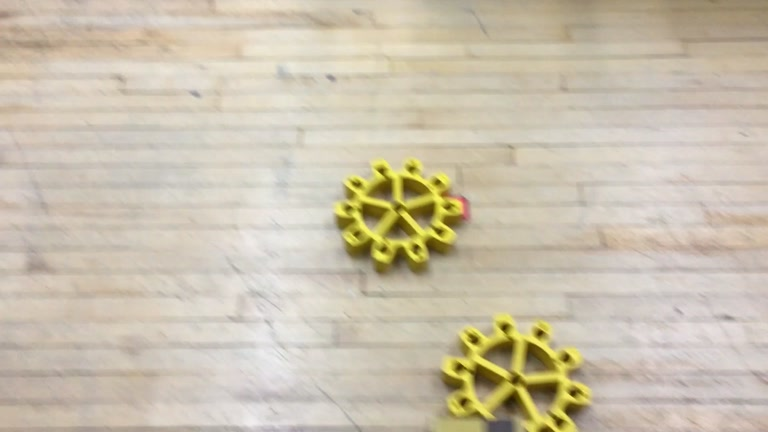gear: (438, 312, 594, 432), (332, 156, 465, 274)
